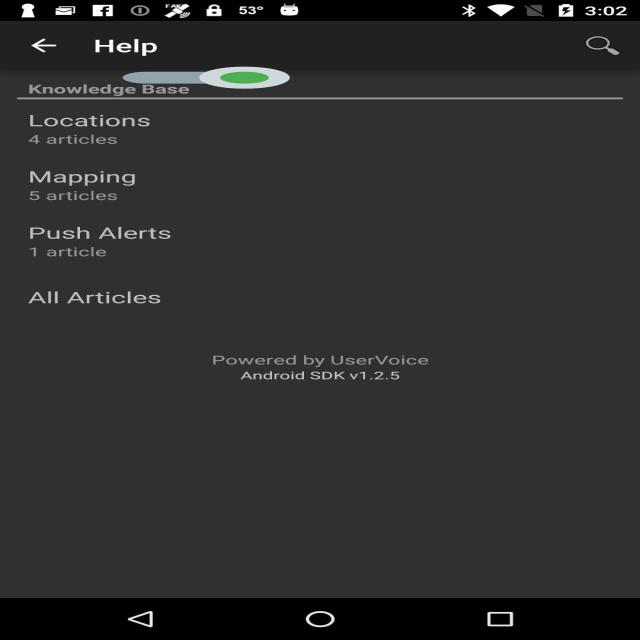social proof: (123, 57, 290, 98)
